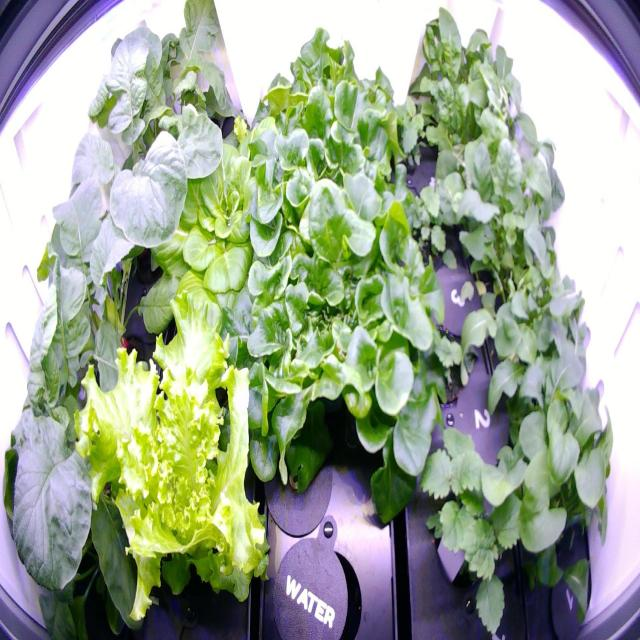young: (139, 112, 309, 350)
